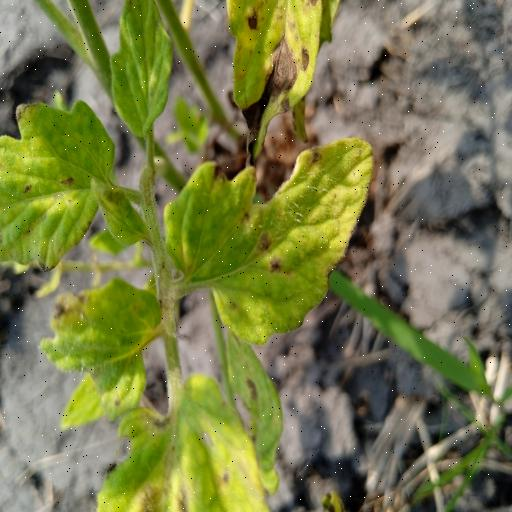Tomato_Brown_Spots: (165, 122, 380, 355)
